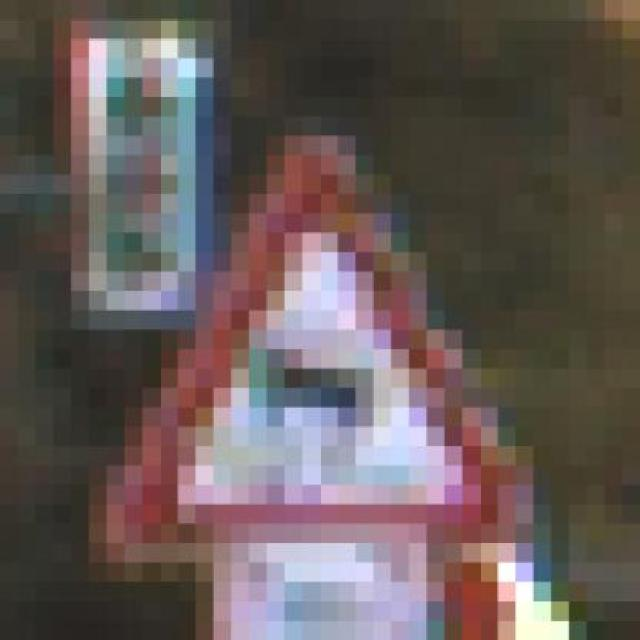Slippery Road Ahead: (71, 116, 534, 562)
